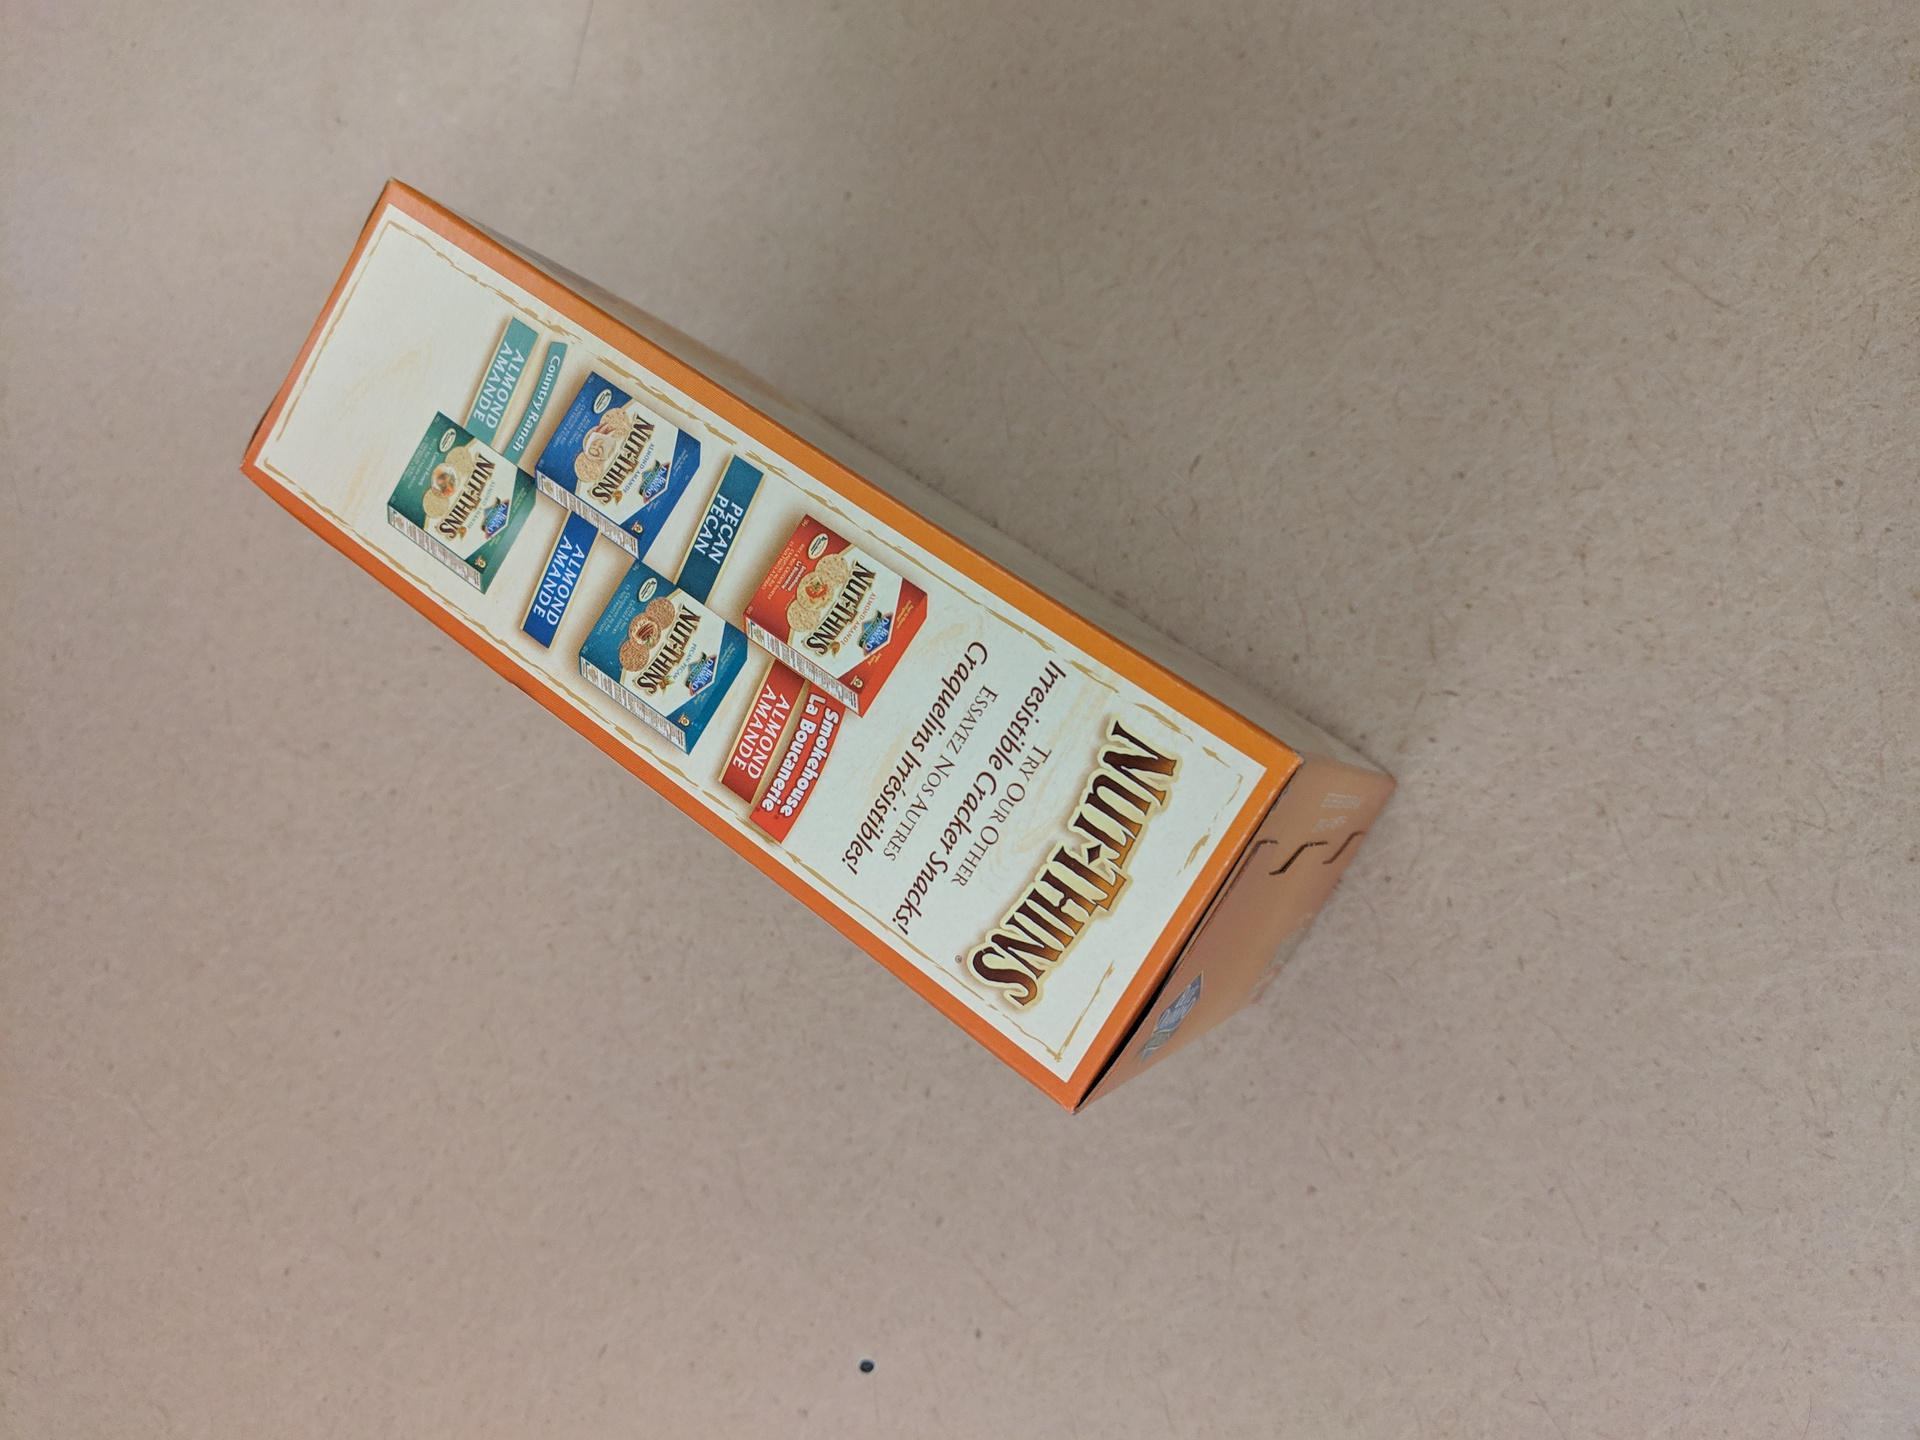blue_diamond_nut_thins_almond_cheddar: (221, 159, 1442, 1134)
